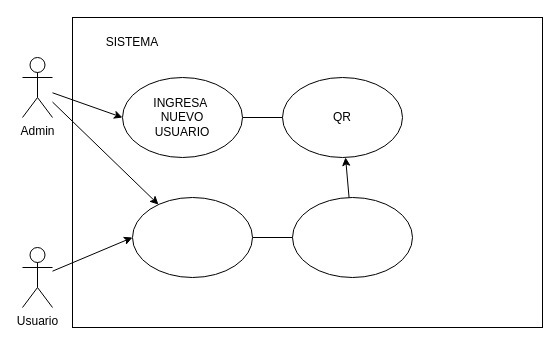
The diagram is 560 pixels wide and 346 high, and some of its shapes have lost their labels. The shapes that lost their labels are listed below. From the top down, each one's centre as x and y in pixels, then its label:
the point at 192,237: INICIA SESION
the point at 352,237: VER DATOS
